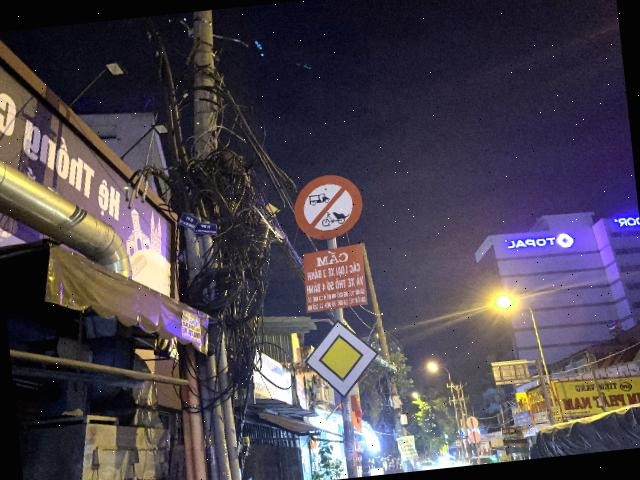bat-dau-duong-uu-tien: (300, 316, 384, 402)
cam-xe-3-banh-xe-tho-so-4-banh: (289, 170, 366, 243)
